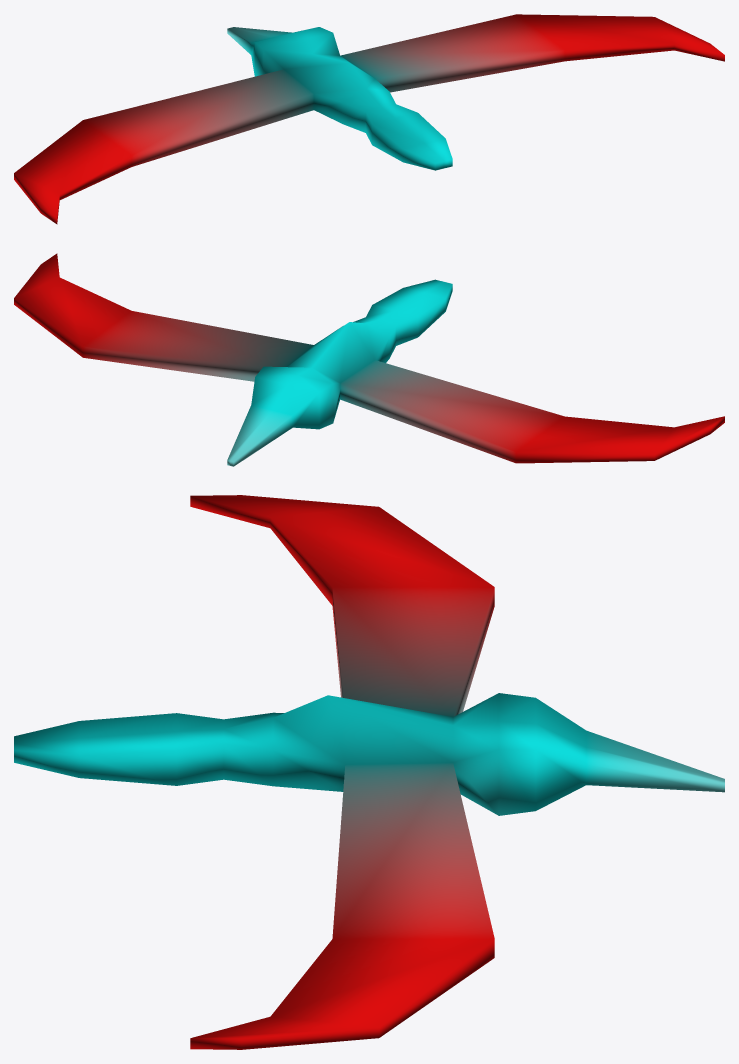
The model's file is zoizos1 1.fbx.
3 views of the same model, one above another, from view 1: azimuth 30°, elevation 25°; view 2: azimuth 150°, elevation 25°; view 3: azimuth 270°, elevation 25° (orthographic). The views are drawn at different scales.
Visible parts, largest first — view 1: Cube; view 2: Cube; view 3: Cube.
Boxes of the visible parts, x1=… form: Cube: x1=14, y1=14, x2=724, y2=224; Cube: x1=14, y1=253, x2=724, y2=466; Cube: x1=14, y1=495, x2=724, y2=1049.
Bounding box in the file's own units: 7.03 × 0.5693 × 3.88.
